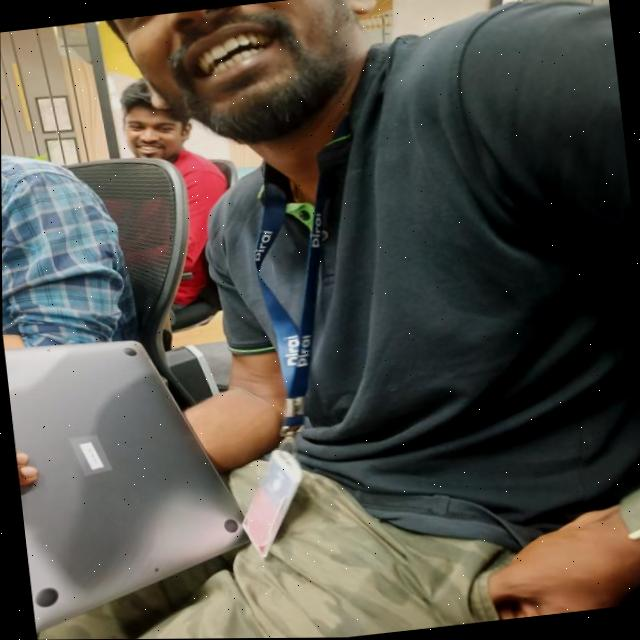id_card: (183, 128, 398, 563)
